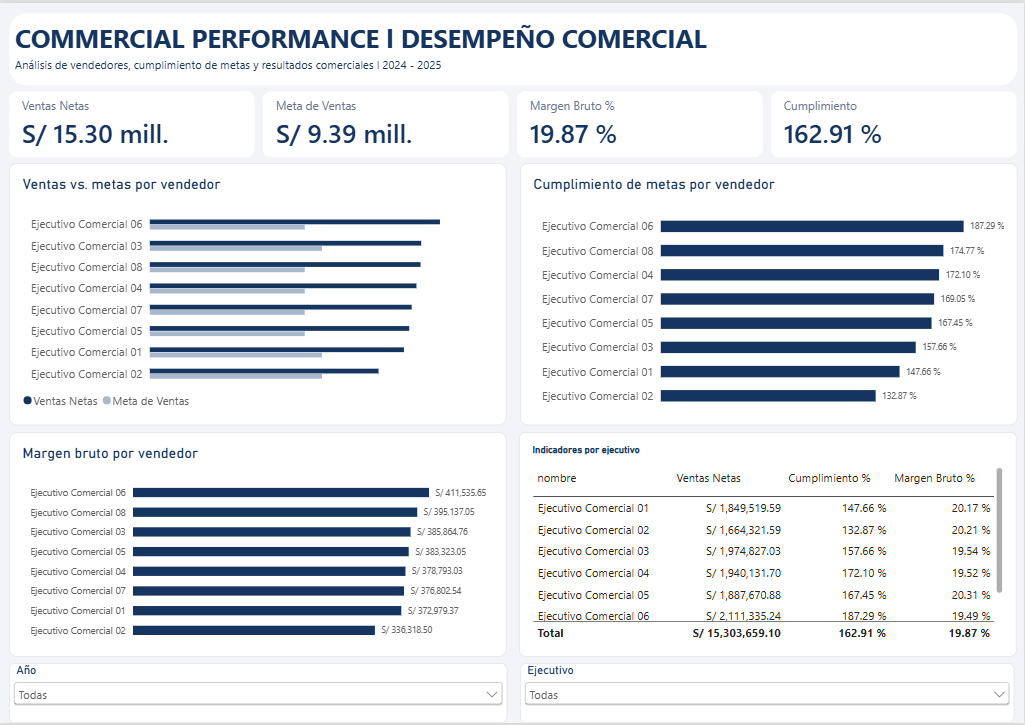

The page's visual inventory and layout, read from the dashboard file:
{"tool":"powerbi","page":{"name":"Desempeño comercial","canvas":[1280,900],"ordinal":2},"visuals":[{"type":"shape","box":[11.6,12.6,1260.7,90.9],"z":0},{"type":"cardVisual","fields":{"Data":["FactVentas.Ventas Netas"]},"box":[11.6,110.3,307.6,83.2],"z":0,"group":"g1"},{"type":"clusteredBarChart","title":"Margen bruto por vendedor","fields":{"Category":["DimVendedores.nombre"],"Y":["FactVentas.Margen Bruto"]},"box":[11.1,536.5,621.6,281.3],"z":0,"group":"g3"},{"type":"textbox","box":[19.3,67.7,614.4,23.2],"z":1000},{"type":"cardVisual","fields":{"Data":["FactMetas.Meta de Ventas"]},"box":[328.8,110.3,307.6,83.2],"z":1000,"group":"g1"},{"type":"clusteredBarChart","title":"Ventas vs. metas por vendedor","fields":{"Category":["DimVendedores.nombre"],"Y":["FactVentas.Ventas Netas","FactMetas.Meta de Ventas"]},"box":[11.1,200.6,622.4,328.1],"z":1000,"group":"g2"},{"type":"tableEx","title":"Indicadores por ejecutivo","fields":{"Values":["DimVendedores.nombre","FactVentas.Ventas Netas","FactMetas.Cumplimiento %","FactVentas.Margen Bruto %"]},"box":[649.1,536.5,621.6,281.3],"z":1000,"group":"g3"},{"type":"textbox","box":[19.3,21.3,925.9,46.4],"z":2000},{"type":"cardVisual","fields":{"Data":["FactVentas.Margen Bruto %"]},"box":[646,110.3,307.6,83.2],"z":2000,"group":"g1"},{"type":"group","id":"g1","title":"Grupo 1","box":[11.6,110.3,1260.7,83.2],"z":3000},{"type":"cardVisual","fields":{"Data":["FactMetas.Cumplimiento %"]},"box":[964.6,110.3,307.6,83.2],"z":3000,"group":"g1"},{"type":"group","id":"g2","title":"Grupo 2","box":[11.1,200.6,1261.3,328.1],"z":4000},{"type":"clusteredBarChart","title":"Cumplimiento de metas por vendedor","fields":{"Category":["DimVendedores.nombre"],"Y":["FactMetas.Cumplimiento %"]},"box":[650,200.6,622.4,328.1],"z":4001,"group":"g2"},{"type":"group","id":"g3","title":"Grupo 3","box":[11.1,536.5,1260.2,281.5],"z":5000},{"type":"slicer","fields":{"Values":["DimMes.Año"]},"box":[11.1,824.6,622.9,75.4],"z":6000},{"type":"slicer","fields":{"Values":["DimVendedores.nombre"]},"box":[649.5,824.6,618.5,75.4],"z":7000}]}

Visuals, with their boxes in screenshot pixels (x1, y1, x2, y2), scaled from the page's 1280x900 canvas onto the 1025x725 screenshot:
shape: 9/10/1019/83
cardVisual - FactVentas.Ventas Netas: 9/89/256/156
"Margen bruto por vendedor" clusteredBarChart: 9/432/507/659
textbox: 15/55/507/73
cardVisual - FactMetas.Meta de Ventas: 263/89/510/156
"Ventas vs. metas por vendedor" clusteredBarChart: 9/162/507/426
"Indicadores por ejecutivo" tableEx: 520/432/1018/659
textbox: 15/17/757/55
cardVisual - FactVentas.Margen Bruto %: 517/89/764/156
"Grupo 1" group: 9/89/1019/156
cardVisual - FactMetas.Cumplimiento %: 772/89/1019/156
"Grupo 2" group: 9/162/1019/426
"Cumplimiento de metas por vendedor" clusteredBarChart: 521/162/1019/426
"Grupo 3" group: 9/432/1018/659
slicer - DimMes.Año: 9/664/508/724
slicer - DimVendedores.nombre: 520/664/1015/724
